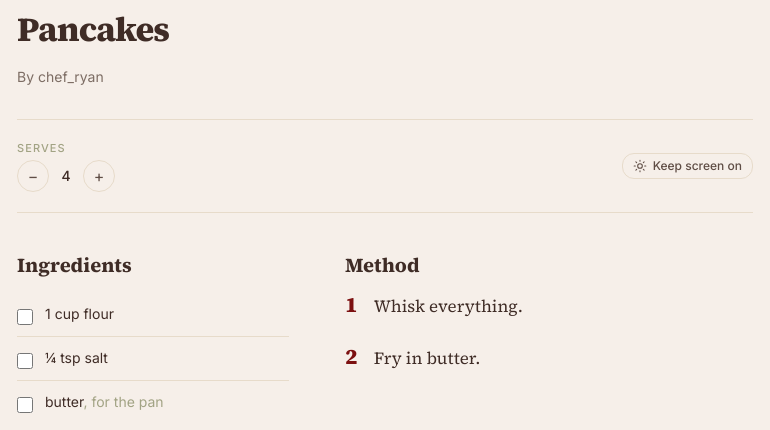
it: scaling › goes back to the recipe's own servings
Click the button named "Fewer servings".
click(33, 176)  # box [17,160,49,192]
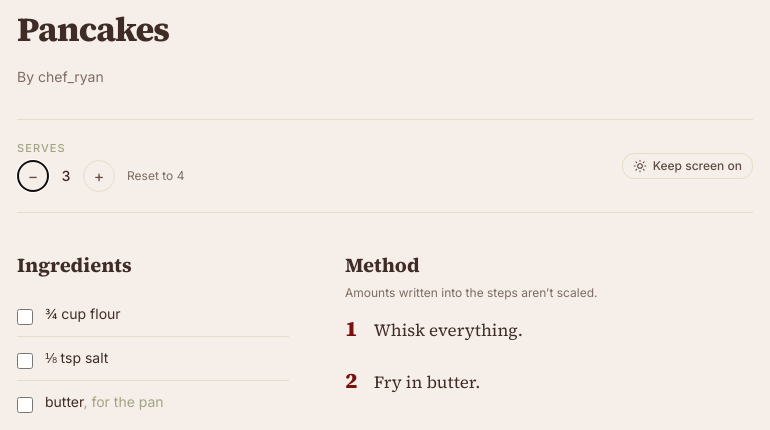
Check: the text "¾ cup flour" is shown, box [45,303,121,326]
Click the button "Reset to 4".
click(156, 176)  # box [127,168,184,184]
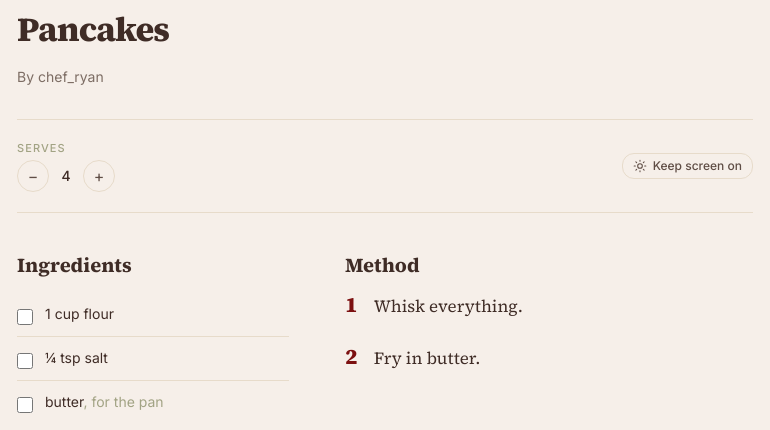
Check: the text "1 cup flour" is shown, box [45,303,114,326]
Check: the button "Reset to 4" is gone
